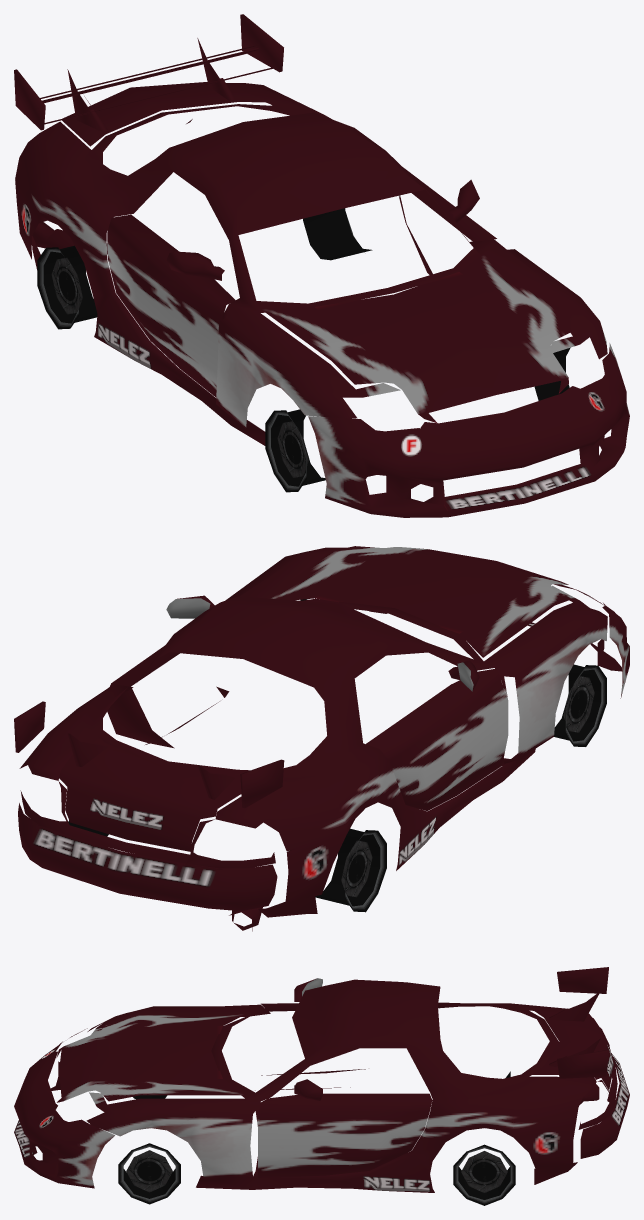
File: car-SPRT_Car9.glb
The picture shows the model from 3 angles, top to bottom: view 1: azimuth 30°, elevation 25°; view 2: azimuth 150°, elevation 25°; view 3: azimuth 270°, elevation 25°; orthographic projection. The views are drawn at different scales.
Visible parts, largest first — view 1: SPRT_Car9; view 2: SPRT_Car9; view 3: SPRT_Car9.
Boxes of the visible parts, x1,y1,x2,y2 form: SPRT_Car9: [14, 14, 629, 517]; SPRT_Car9: [14, 546, 629, 931]; SPRT_Car9: [14, 967, 629, 1205].
Size of the model in its own units: 1.87 by 1.15 by 4.33.
Materials: 19 (19 with a texture image).
